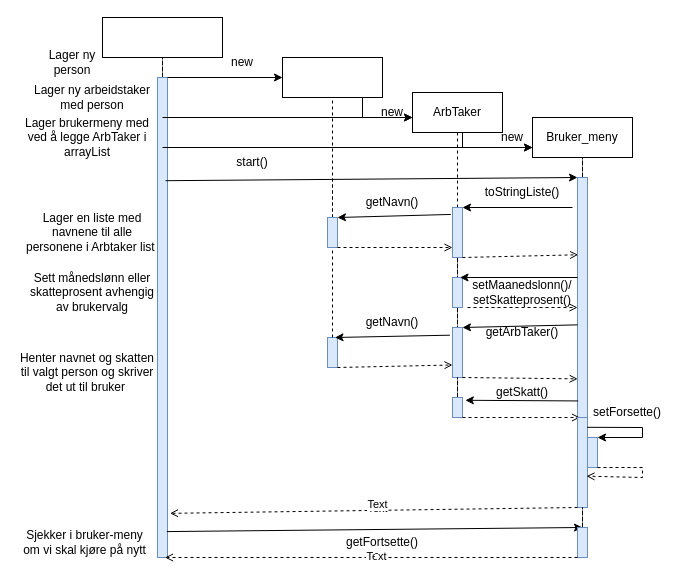
This 678x583 diagram has some shape labels left out. Each missing label, with the centre of its shape:
"arbTaker_test" belongs at point (162, 37).
"Person" belongs at point (332, 77).
